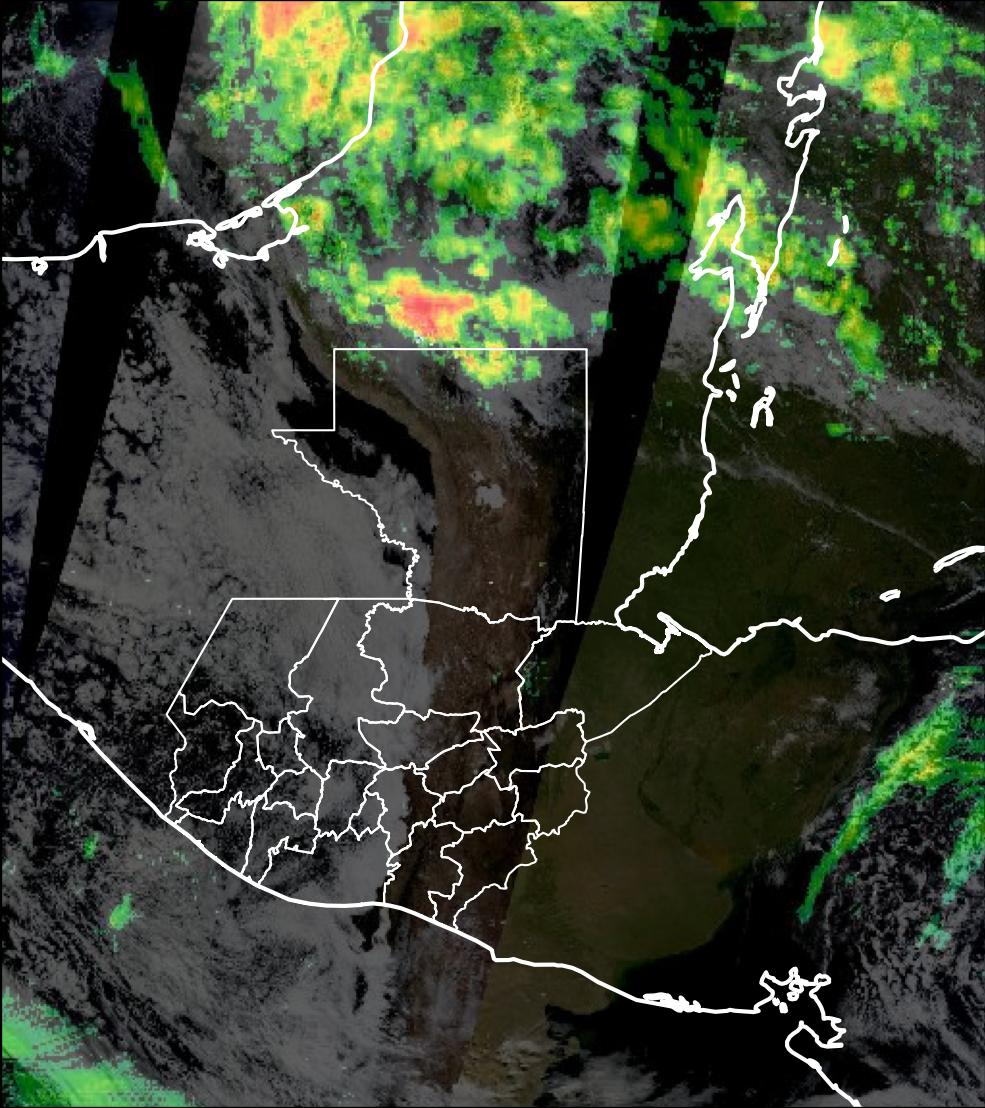precipitacion: (376, 270, 477, 342), (250, 2, 345, 77)
